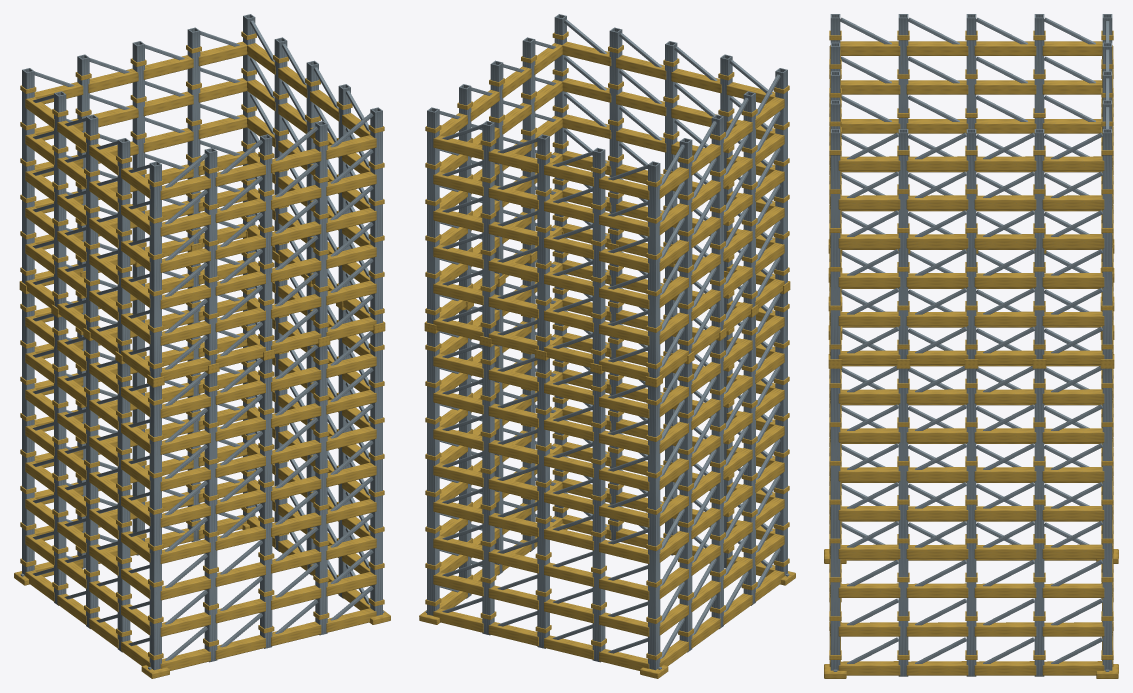
3 renders of one model, left to right at view 1: azimuth 30°, elevation 25°; view 2: azimuth 150°, elevation 25°; view 3: azimuth 270°, elevation 25°, orthographic. The views are drawn at different scales.
Visible parts, largest first — view 1: Tier 0 side 0 post 0, Tier 0 side 0 post 1, Tier 0 side 1 post 0, Tier 0 side 0 post 3, Tier 0 side 0 post 2, Tier 0 side 3 post 3, Tier 0 side 3 post 1, Tier 0 side 3 post 2, Tier 0 side 3 post 0, Tier 1 side 0 post 0, Tier 1 side 0 post 1, Tier 1 side 1 post 0 (+82 smaller); view 2: Tier 0 side 3 post 0, Tier 0 side 2 post 3, Tier 0 side 2 post 0, Tier 0 side 2 post 1, Tier 0 side 2 post 2, Tier 1 side 3 post 0, Tier 0 side 3 post 1, Tier 0 side 3 post 3, Tier 0 side 0 post 0, Tier 1 side 2 post 3, Tier 0 side 3 post 2, Tier 1 side 2 post 0 (+84 smaller); view 3: Tier 0 side 1 post 0, Tier 0 side 2 post 0, Tier 0 side 1 post 1, Tier 0 side 1 post 2, Tier 0 side 1 post 3, Tier 1 side 1 post 0, Tier 1 side 2 post 0, Tier 1 side 1 post 1, Tier 1 side 1 post 2, Tier 1 side 1 post 3, Tier 1 side 3 post 1, Tier 1 side 3 post 2 (+69 smaller).
Part boxes in pixels (x1,y1,x2,y2): Tier 0 side 0 post 0: (149, 385, 161, 670); Tier 0 side 0 post 1: (204, 372, 217, 662); Tier 0 side 1 post 0: (370, 331, 382, 615); Tier 0 side 0 post 3: (315, 345, 327, 635); Tier 0 side 0 post 2: (260, 359, 272, 648); Tier 0 side 3 post 3: (117, 362, 130, 652); Tier 0 side 3 post 1: (54, 315, 66, 605); Tier 0 side 3 post 2: (86, 338, 98, 628); Tier 0 side 3 post 0: (22, 291, 34, 575); Tier 1 side 0 post 0: (149, 161, 161, 378); Tier 1 side 0 post 1: (204, 147, 217, 364); Tier 1 side 1 post 0: (370, 107, 382, 323); Tier 0 side 3 post 0: (648, 385, 660, 670); Tier 0 side 2 post 3: (592, 372, 605, 662); Tier 0 side 2 post 0: (427, 331, 439, 615); Tier 0 side 2 post 1: (482, 345, 494, 635); Tier 0 side 2 post 2: (537, 358, 549, 648); Tier 1 side 3 post 0: (648, 161, 660, 378); Tier 0 side 3 post 1: (679, 362, 692, 652); Tier 0 side 3 post 3: (743, 315, 755, 605); Tier 0 side 0 post 0: (775, 291, 787, 575); Tier 1 side 2 post 3: (592, 147, 605, 364); Tier 0 side 3 post 2: (711, 338, 723, 628); Tier 1 side 2 post 0: (427, 107, 439, 323); Tier 0 side 1 post 0: (830, 368, 840, 670); Tier 0 side 2 post 0: (1102, 368, 1112, 670); Tier 0 side 1 post 1: (898, 368, 908, 676); Tier 0 side 1 post 2: (966, 368, 976, 676); Tier 0 side 1 post 3: (1034, 368, 1044, 676); Tier 1 side 1 post 0: (830, 129, 840, 359); Tier 1 side 2 post 0: (1102, 129, 1112, 359); Tier 1 side 1 post 1: (898, 129, 908, 359); Tier 1 side 1 post 2: (966, 129, 976, 359); Tier 1 side 1 post 3: (1034, 129, 1044, 359); Tier 1 side 3 post 1: (1034, 14, 1044, 128); Tier 1 side 3 post 2: (966, 14, 976, 128).
Size of the model in its own units: 1.95 by 3.97 by 1.95.
Materials: 2 (2 with a texture image).
